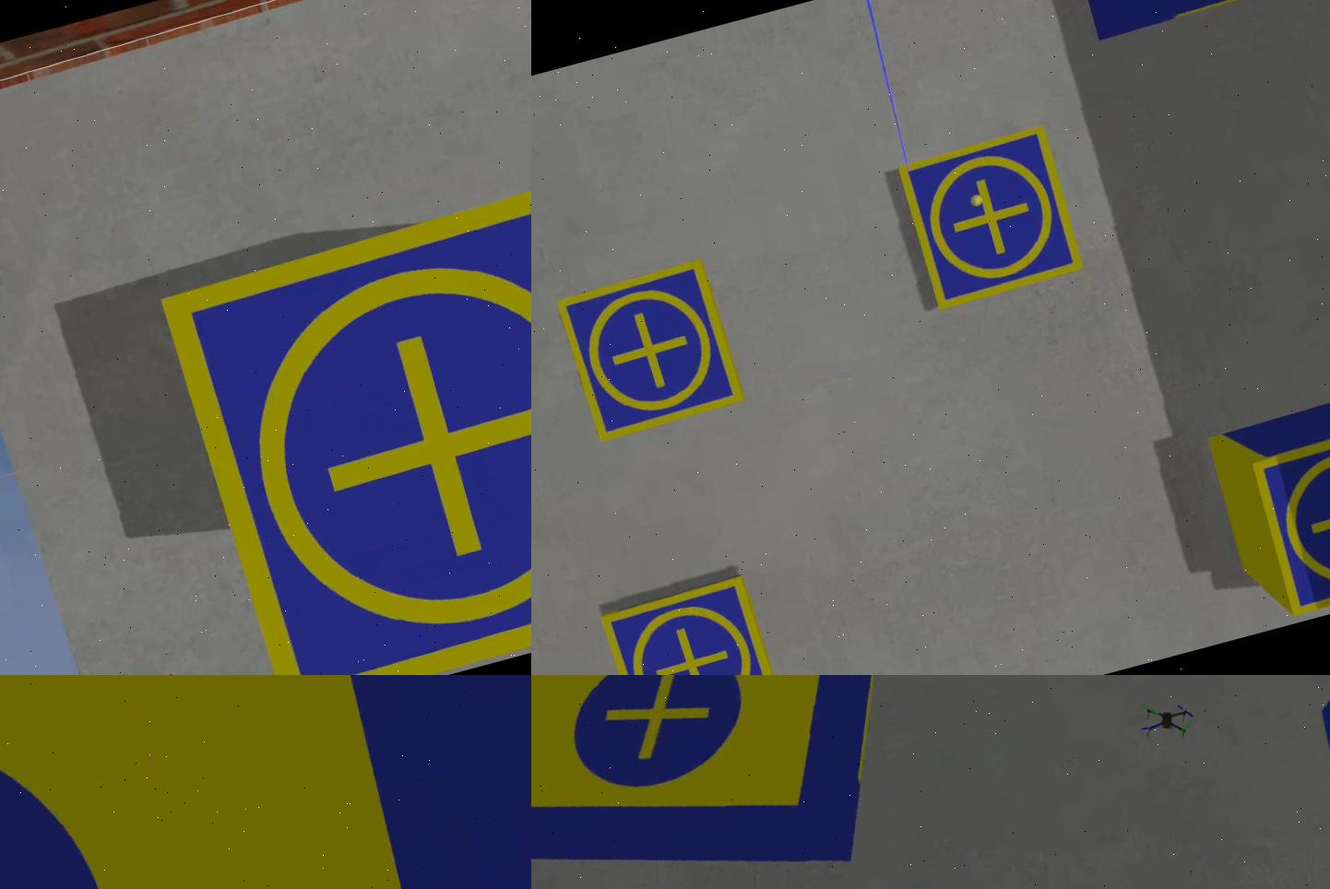large_base: (1, 676, 532, 889), (532, 676, 956, 889), (1071, 1, 1330, 42)
small_base: (156, 172, 532, 676), (552, 255, 748, 448), (898, 126, 1086, 315), (600, 572, 788, 676), (1248, 410, 1330, 620)
